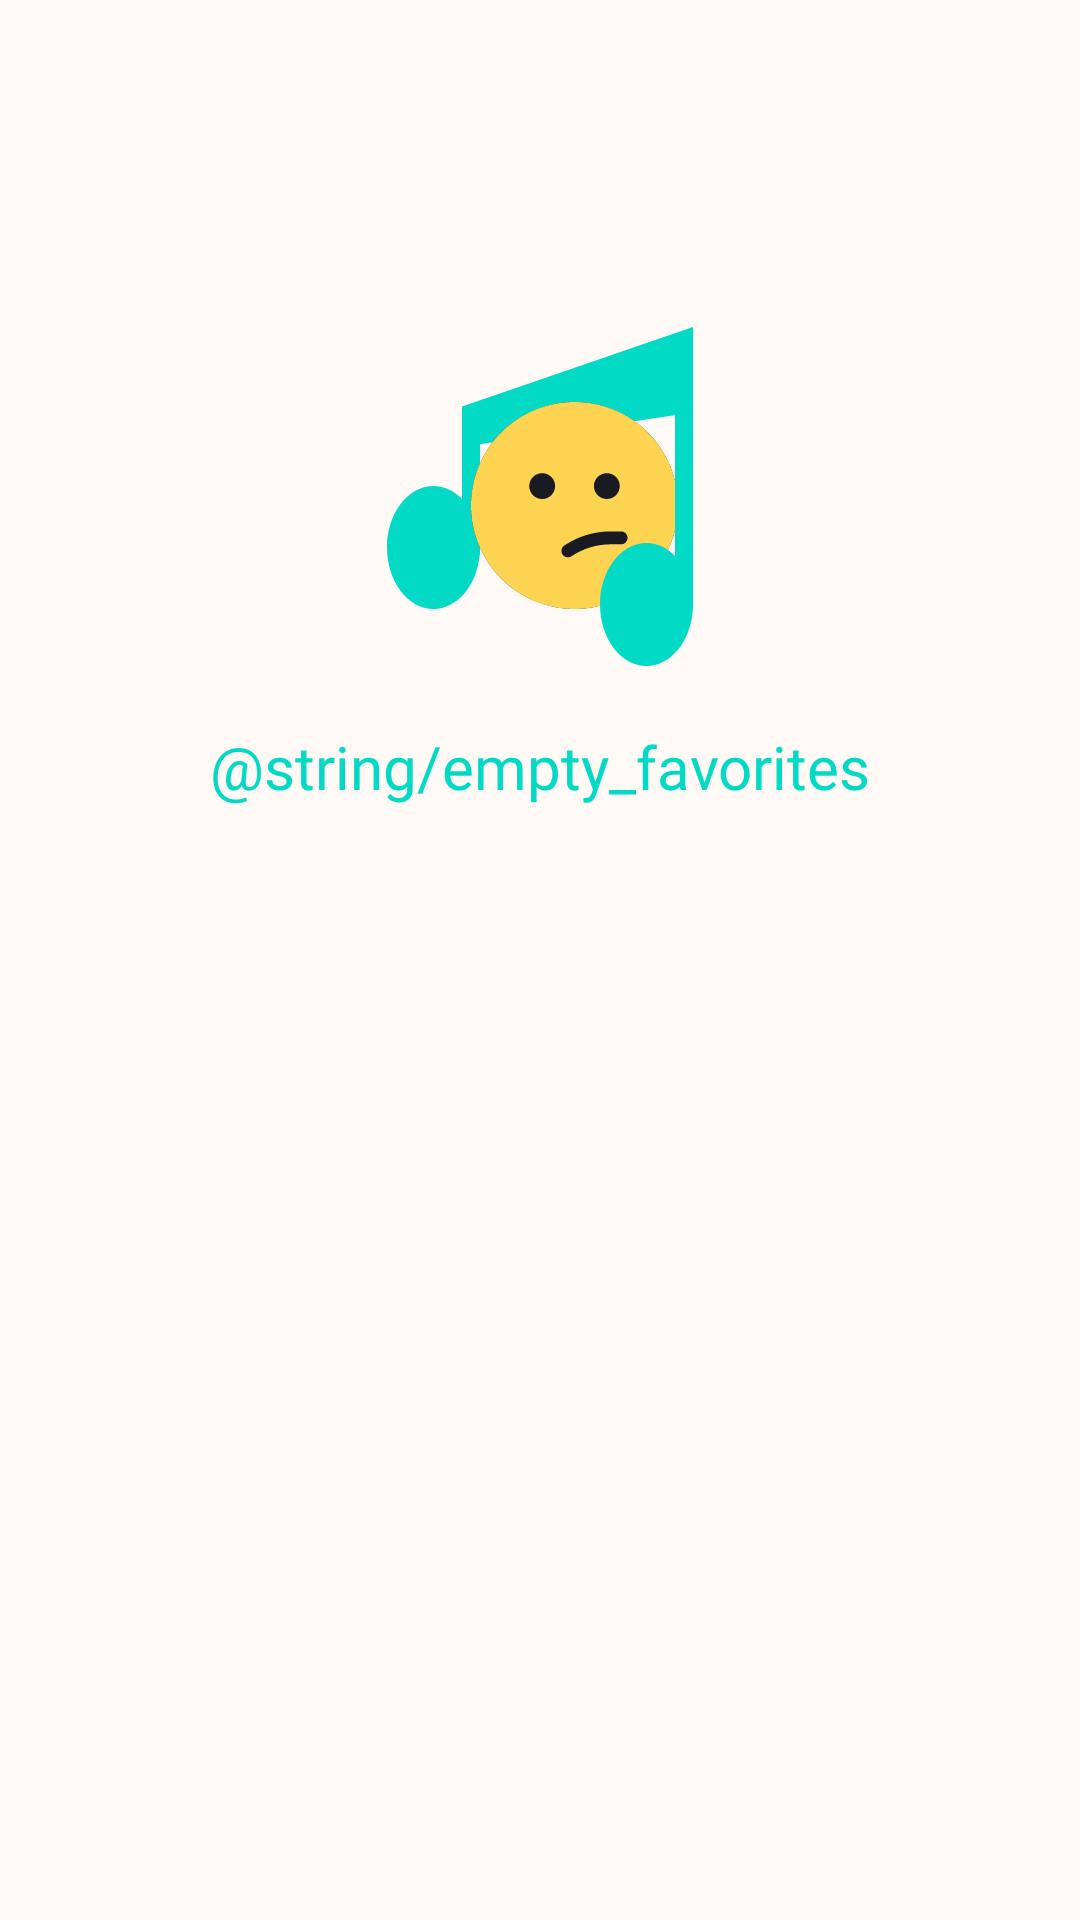

Icons on this 1080x1920 Android screen, each with the point to tap as (x,y):
nothing found: (540,496)
